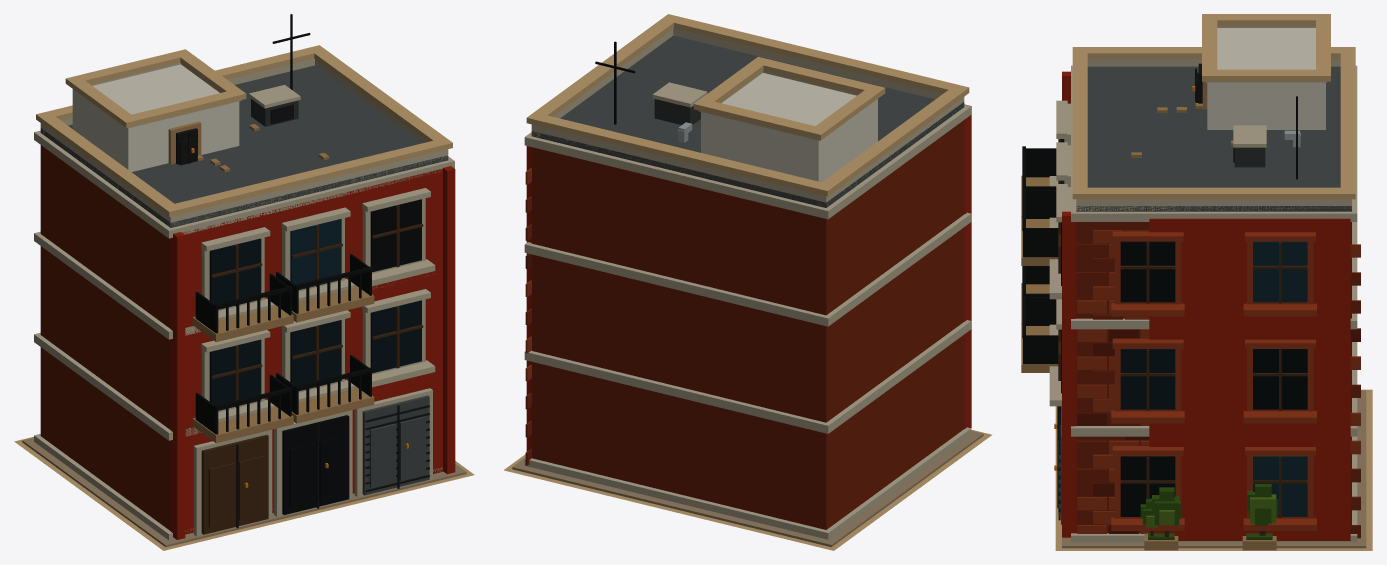
Rendered from SM_Mapa_034.fbx.
The picture shows the model from 3 angles, left to right: view 1: azimuth 30°, elevation 25°; view 2: azimuth 150°, elevation 25°; view 3: azimuth 270°, elevation 25°; orthographic projection. The views are drawn at different scales.
Parts seen in each view (by area): view 1: SM_Mapa_034; view 2: SM_Mapa_034; view 3: SM_Mapa_034.
Part boxes in pixels (x1,y1,x2,y2): SM_Mapa_034: [14, 14, 474, 550]; SM_Mapa_034: [504, 14, 992, 550]; SM_Mapa_034: [1021, 14, 1372, 550].
Bounding box in the file's own units: 8 × 7.21 × 9.47.
